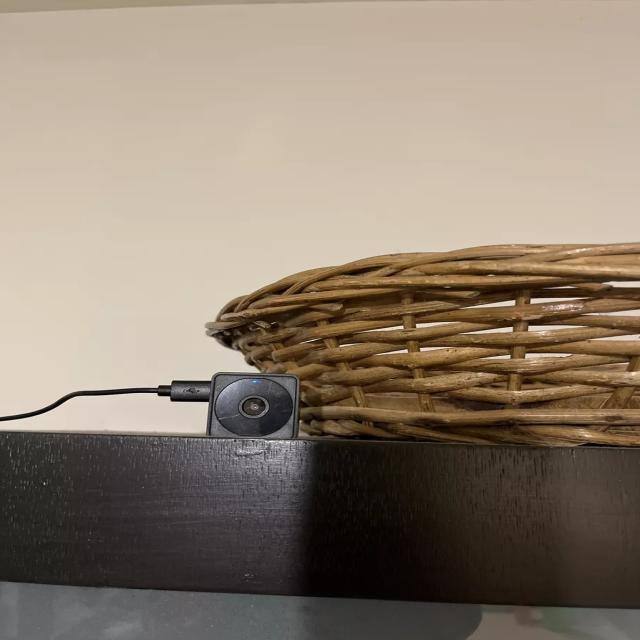hidden camera: (237, 395, 270, 419)
